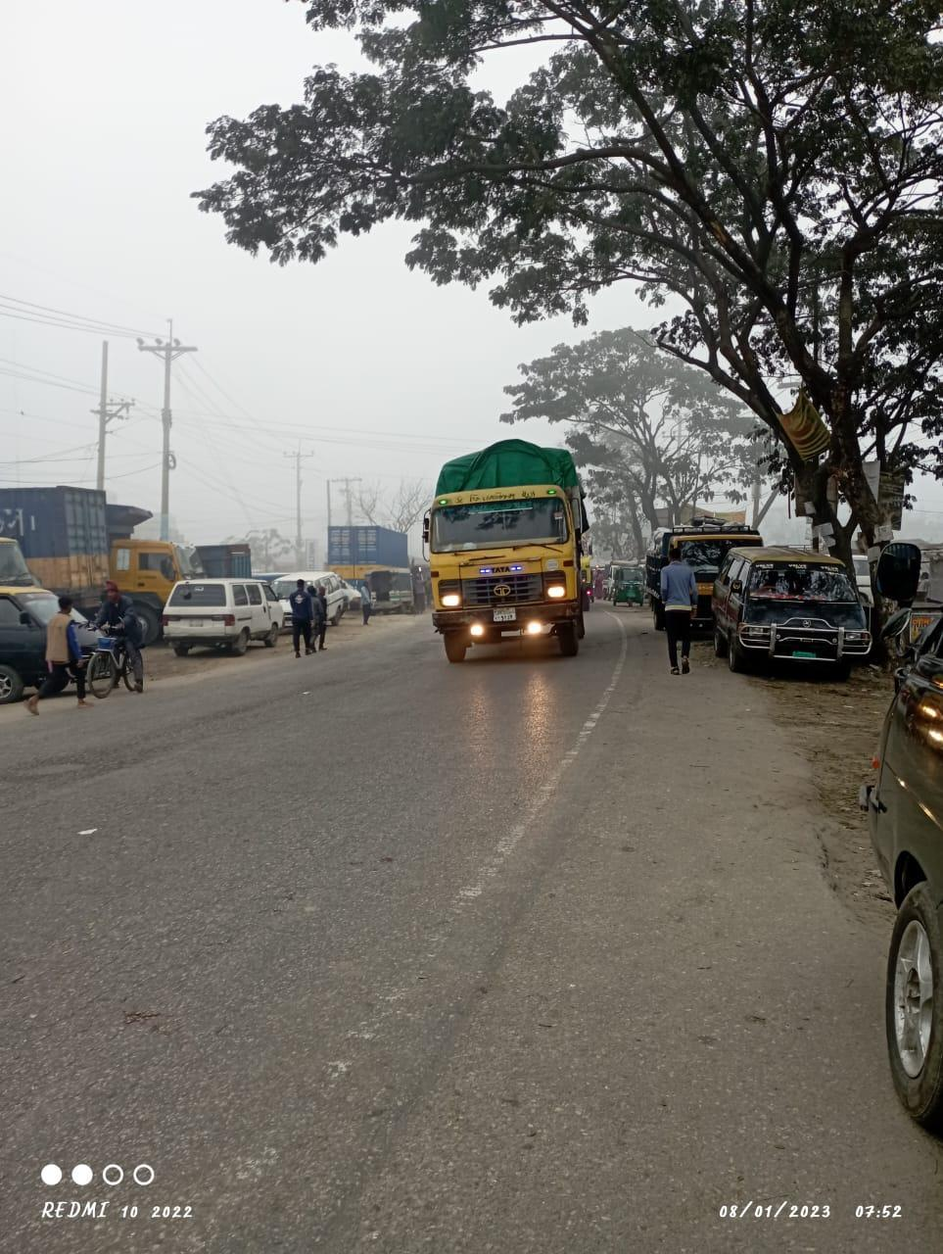Car: (701, 542, 879, 679), (1, 577, 111, 695), (149, 572, 286, 655), (357, 559, 423, 622)
Truck: (417, 446, 591, 663), (10, 478, 182, 626), (650, 505, 732, 627), (317, 517, 413, 591)
